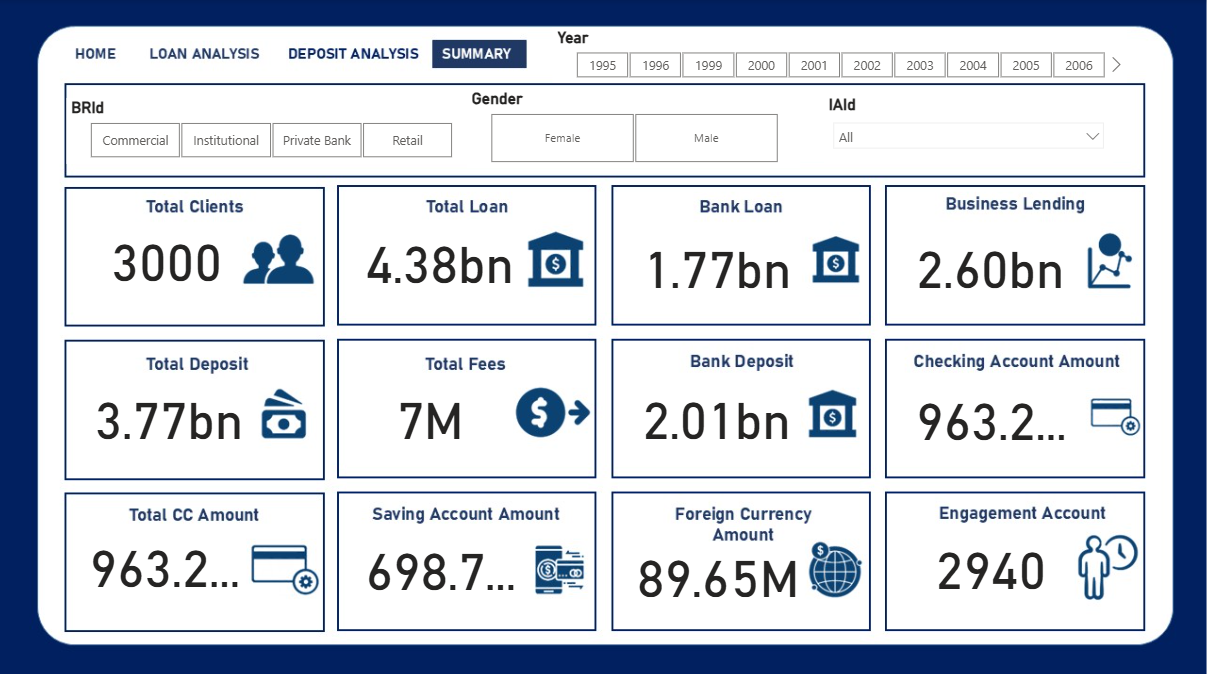

What the dashboard file says about the page in this screenshot:
{"tool":"powerbi","page":{"name":"Summary","canvas":[1280,720],"ordinal":3},"visuals":[{"type":"actionButton","box":[62,39.8,81.1,35],"z":0},{"type":"actionButton","box":[143.2,39.8,159.1,35],"z":1000},{"type":"actionButton","box":[302.2,39.8,149.5,35],"z":2000},{"type":"card","fields":{"Values":["banking_case customer.Total Clients"]},"box":[97,238.6,160.7,68.4],"z":3000},{"type":"card","fields":{"Values":["banking_case customer.TotalLoan_Main"]},"box":[377,233.8,179.7,82.7],"z":4000},{"type":"card","fields":{"Values":["banking_case customer.TotalLoan"]},"box":[671.2,238.6,179.7,82.7],"z":5000},{"type":"card","fields":{"Values":["banking_case customer.BusinessLending"]},"box":[960.7,238.6,179.7,82.7],"z":6000},{"type":"card","fields":{"Values":["banking_case customer.Total Deposit"]},"box":[84.3,402.4,190.9,74.8],"z":7000},{"type":"card","fields":{"Values":["banking_case customer.TotalFees"]},"box":[367.4,402.4,178.1,74.8],"z":8000},{"type":"card","fields":{"Values":["Sum(banking_case customer.Bank Deposits)"]},"box":[671.2,402.4,178.1,74.8],"z":9000},{"type":"card","fields":{"Values":["Sum(banking_case customer.Checking Accounts)"]},"box":[87.5,559.9,175,74.8],"z":10000},{"type":"card","fields":{"Values":["Sum(banking_case customer.Saving Accounts)"]},"box":[372.2,563.1,190.9,74.8],"z":11000},{"type":"card","fields":{"Values":["banking_case customer.TotalForeignCurrencyBalance"]},"box":[669.6,575.8,184.5,63.6],"z":12000},{"type":"card","fields":{"Values":["Sum(banking_case customer.Checking Accounts)"]},"box":[962.3,404,178.1,74.8],"z":13000},{"type":"card","fields":{"Values":["banking_case customer.Engagement Accounts Main"]},"box":[962.3,561.5,178.1,74.8],"z":14000},{"type":"slicer","title":"BRId","fields":{"Values":["banking_case customer.BRId"]},"box":[71.6,105,432.6,70],"z":15000},{"type":"slicer","title":"Gender","fields":{"Values":["banking_case customer.GenderId"]},"box":[496.3,95.4,353.1,84.3],"z":16000},{"type":"slicer","title":"IAId","fields":{"Values":["banking_case customer.IAId"]},"box":[874.8,101.8,307,73.2],"z":17000},{"type":"slicer","title":"Year","fields":{"Values":["banking_case customer.Year of Joining"]},"box":[586.9,30.2,609.2,58.9],"z":18000}]}

Visuals, with their boxes in screenshot pixels (x1, y1, x2, y2), scaled from the page's 1280x720 canvas onto the 1207x674 screenshot:
actionButton: 58:37:135:70
actionButton: 135:37:285:70
actionButton: 285:37:426:70
card - banking_case customer.Total Clients: 91:223:243:287
card - banking_case customer.TotalLoan_Main: 355:219:525:296
card - banking_case customer.TotalLoan: 633:223:802:301
card - banking_case customer.BusinessLending: 906:223:1075:301
card - banking_case customer.Total Deposit: 79:377:260:447
card - banking_case customer.TotalFees: 346:377:514:447
card - Sum(banking_case customer.Bank Deposits): 633:377:801:447
card - Sum(banking_case customer.Checking Accounts): 83:524:248:594
card - Sum(banking_case customer.Saving Accounts): 351:527:531:597
card - banking_case customer.TotalForeignCurrencyBalance: 631:539:805:599
card - Sum(banking_case customer.Checking Accounts): 907:378:1075:448
card - banking_case customer.Engagement Accounts Main: 907:526:1075:596
"BRId" slicer: 68:98:475:164
"Gender" slicer: 468:89:801:168
"IAId" slicer: 825:95:1114:164
"Year" slicer: 553:28:1128:83
